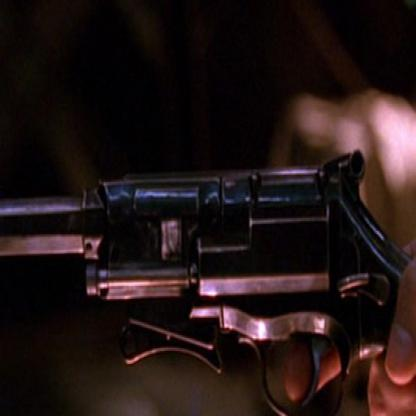gun: (0, 89, 415, 414)
